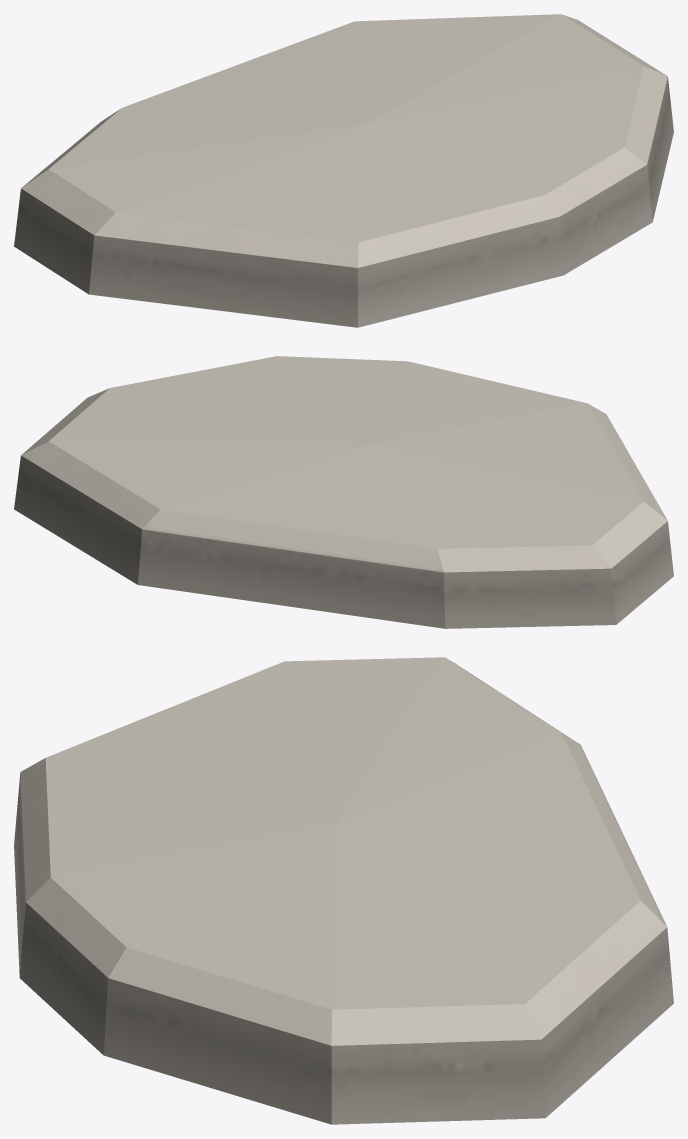
The model's file is stepping_stone_b.glb.
3 renders of one model, top to bottom at view 1: azimuth 30°, elevation 25°; view 2: azimuth 150°, elevation 25°; view 3: azimuth 270°, elevation 25°, orthographic. The views are drawn at different scales.
Parts seen in each view (by area): view 1: stepping_stone_b; view 2: stepping_stone_b; view 3: stepping_stone_b.
Part boxes in pixels (box(x1,y1,x2,y2)): stepping_stone_b: box(14, 14, 673, 327); stepping_stone_b: box(14, 356, 673, 628); stepping_stone_b: box(14, 657, 673, 1124).
Size of the model in its own units: 0.4805 by 0.061 by 0.343.
1 material, 1 textured.
